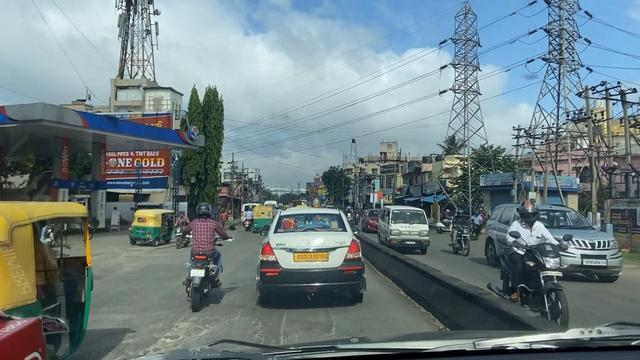LMV: (177, 199, 219, 302)
RoadDamages: (141, 301, 231, 357)
